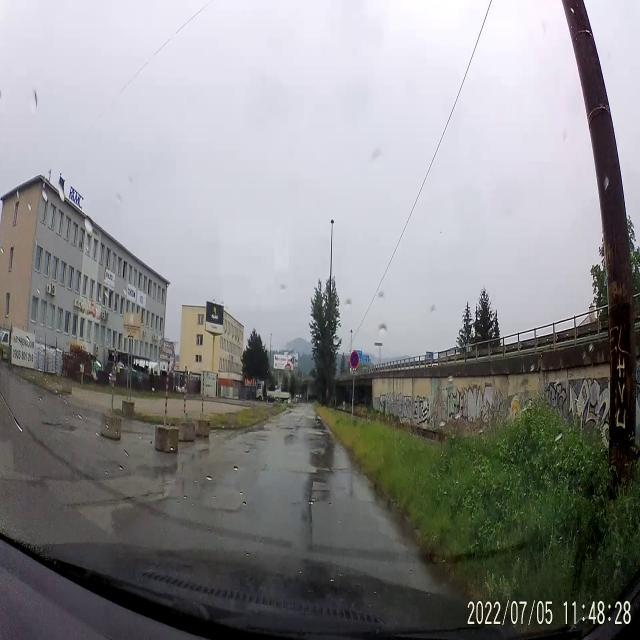Pothole: (304, 470, 330, 508), (303, 424, 327, 442)
